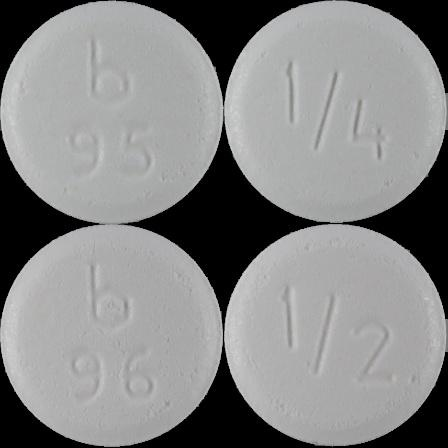0555-0095: (0, 0, 224, 224)
